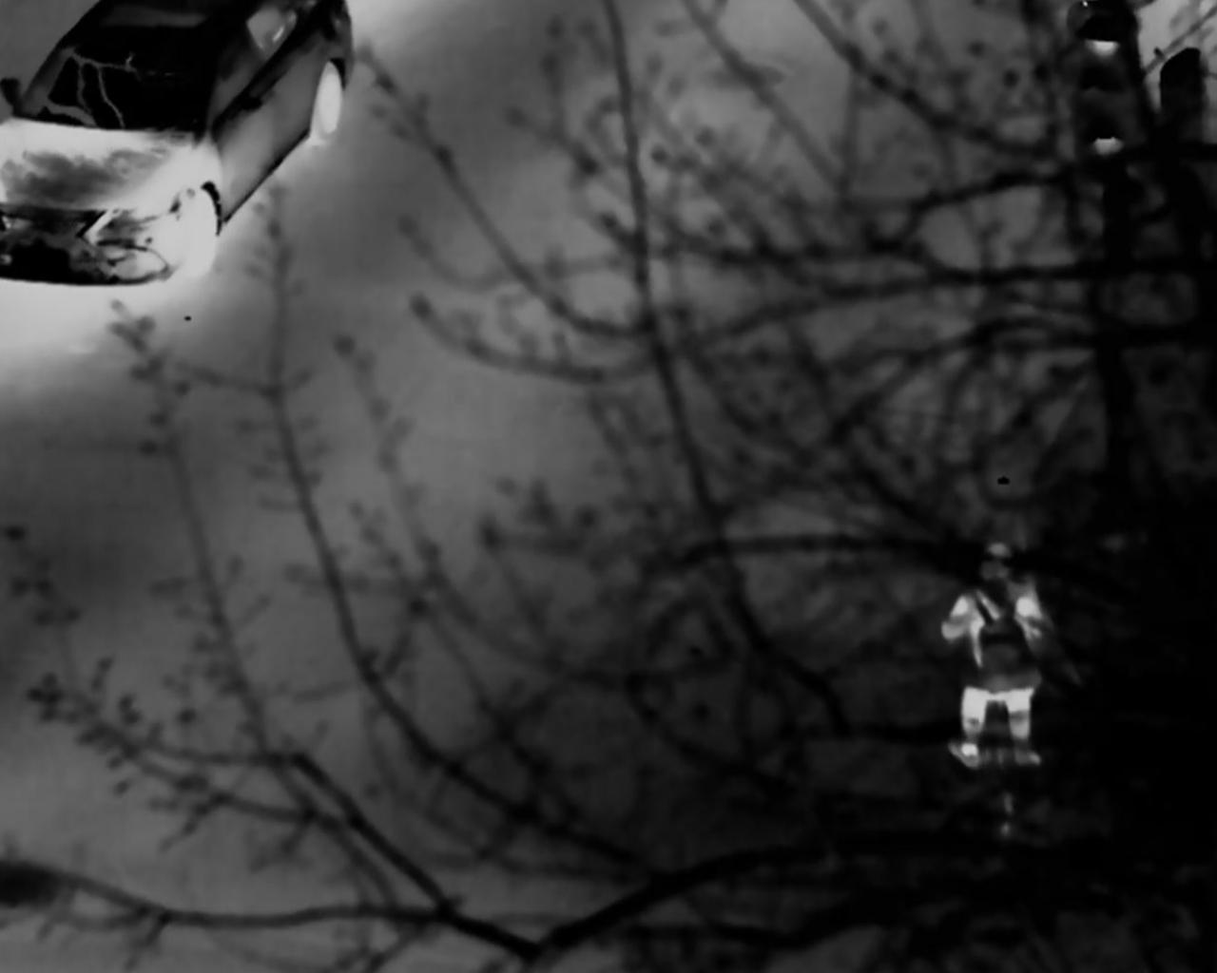person: (940, 541, 1052, 782)
